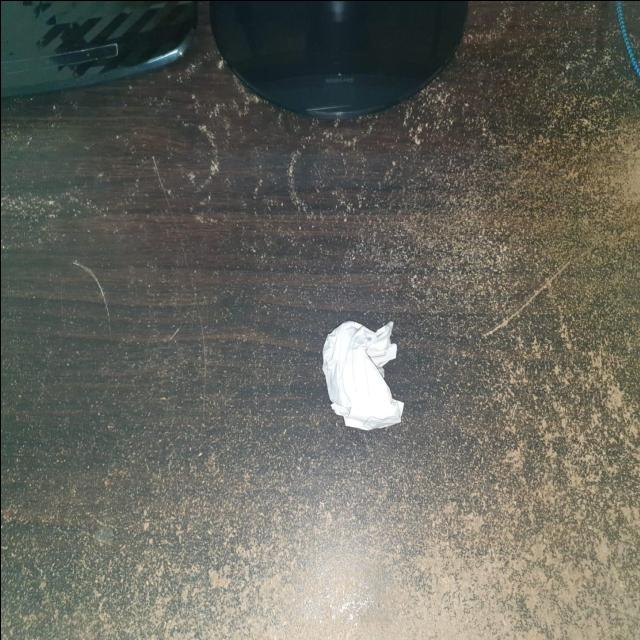kertas: (312, 307, 418, 433)
